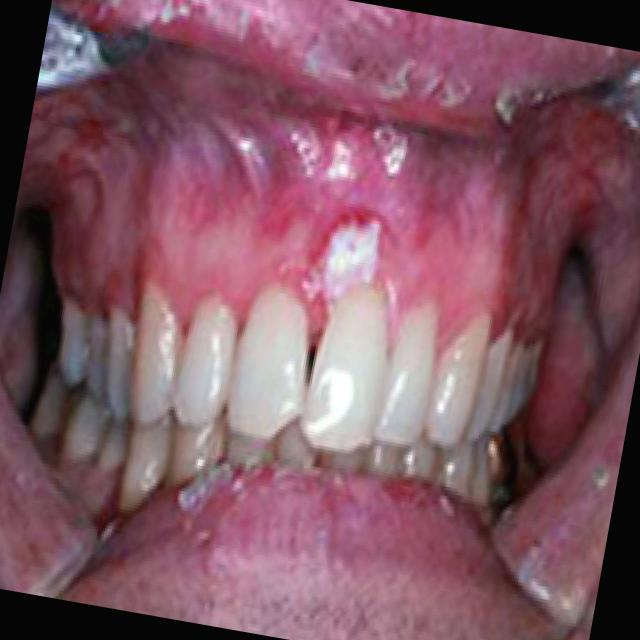Cancer: (15, 53, 587, 333)
